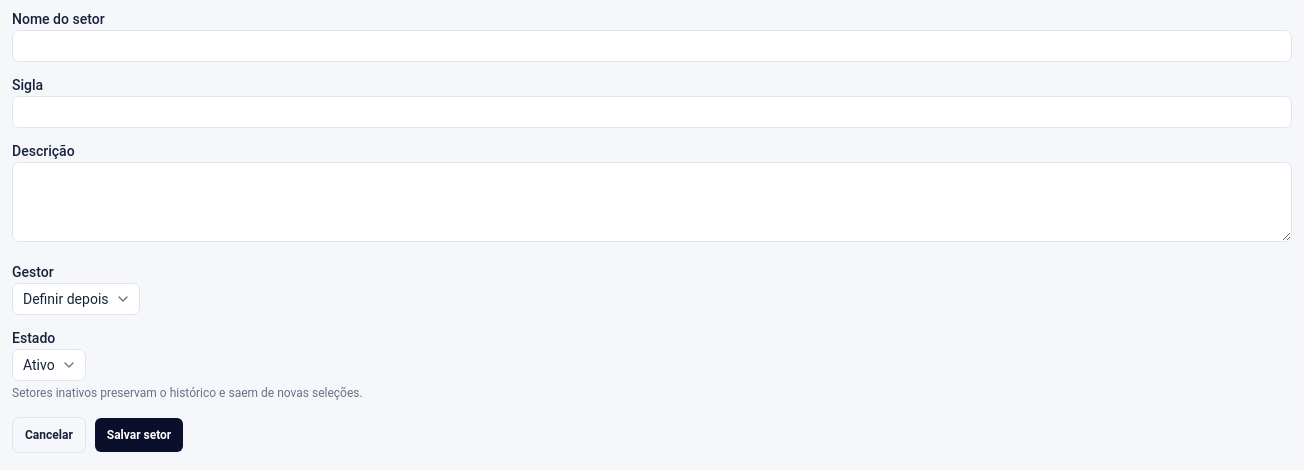
Test: SectorForm › oferece apenas gestores ativos com papel elegível
The image size is (1304, 470).
What coordinates should you click on to do the following:
click the dropdown named "Gestor"
I would click on:
 (76, 299)
Its box is [12,283,140,315].
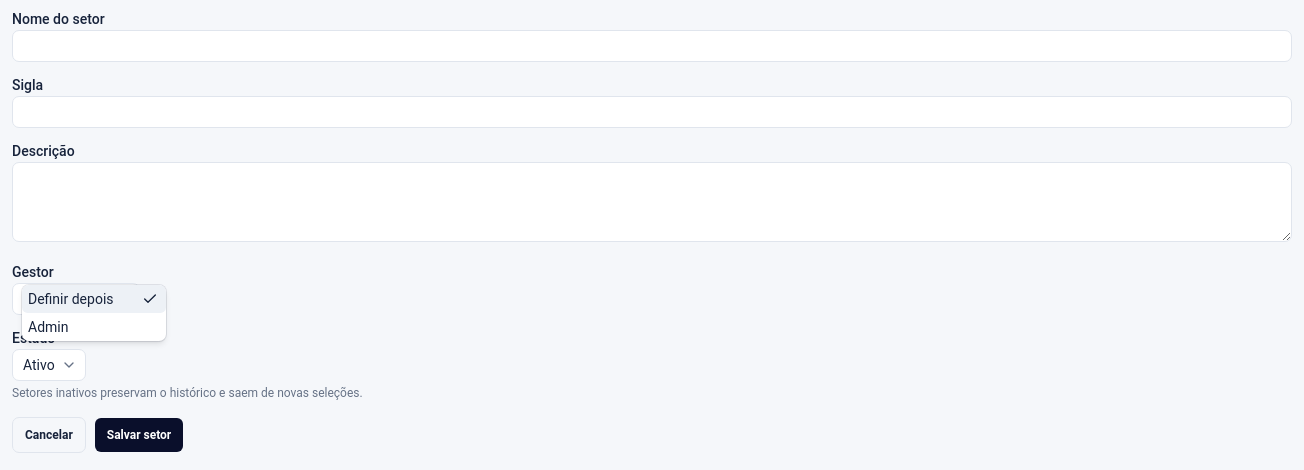
Result: the option "Admin" is shown at [28,319,68,335]
